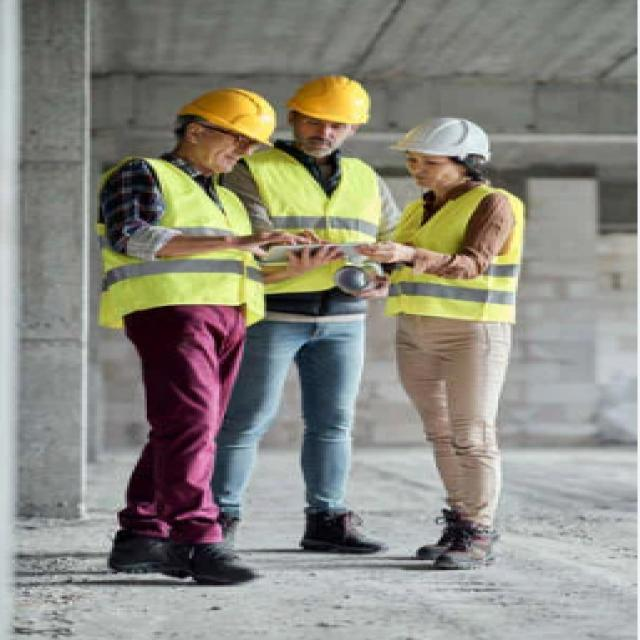boots: (177, 504, 393, 560), (110, 527, 266, 587), (411, 508, 508, 578)
helmet: (276, 70, 376, 169), (172, 86, 281, 175), (391, 114, 498, 184)
vest: (95, 156, 282, 326), (232, 144, 394, 306), (373, 178, 533, 331)
